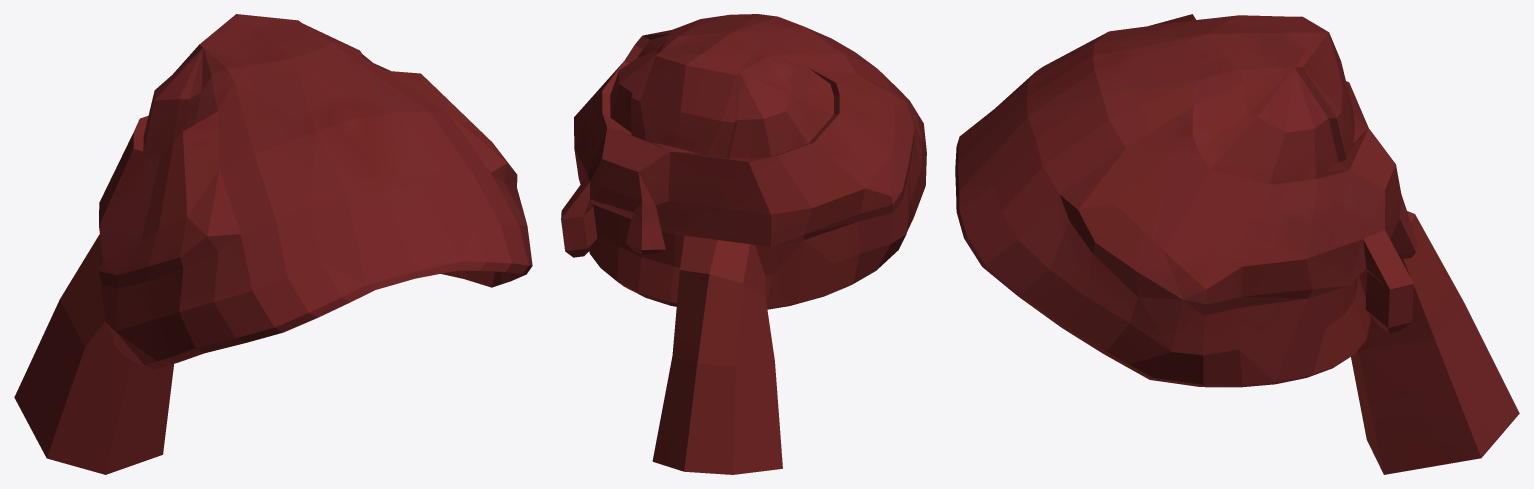
The model's file is piratebandana.fbx.
3 views of the same model, side by side, from view 1: azimuth 30°, elevation 25°; view 2: azimuth 150°, elevation 25°; view 3: azimuth 270°, elevation 25° (orthographic). The views are drawn at different scales.
Visible parts, largest first — view 1: piratebandana; view 2: piratebandana; view 3: piratebandana.
Part boxes in pixels (x1,y1,x2,y2): piratebandana: (14,14,532,474); piratebandana: (561,14,926,474); piratebandana: (955,14,1519,474).
Size of the model in its own units: 28.96 by 31.61 by 34.67.
